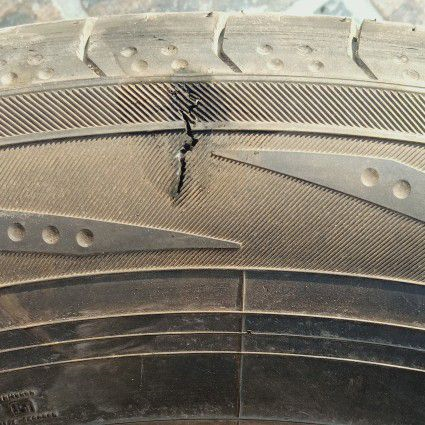cut: (167, 85, 208, 198)
